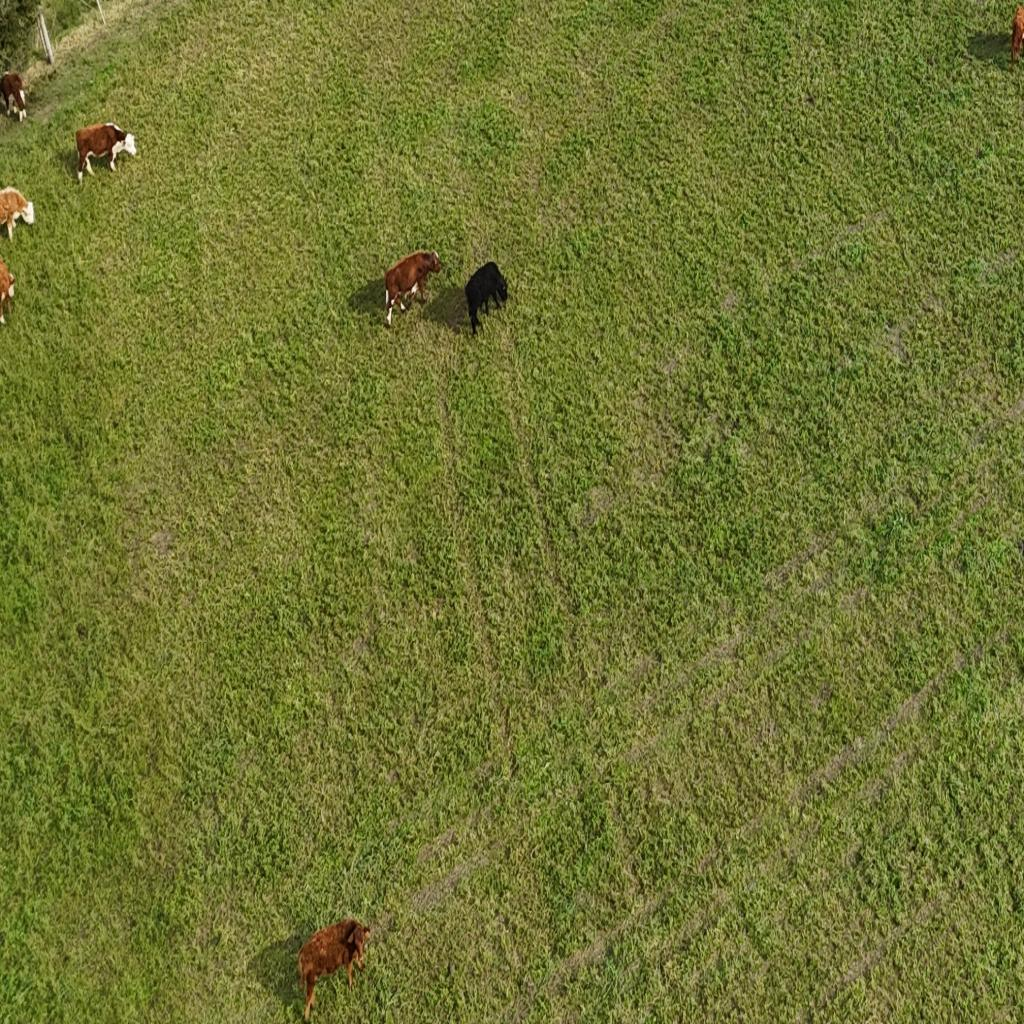cow: (295, 914, 377, 1024), (378, 246, 440, 329), (461, 257, 509, 338), (75, 120, 132, 182), (0, 187, 36, 244), (0, 254, 17, 327), (1005, 6, 1024, 68), (0, 72, 26, 117)
